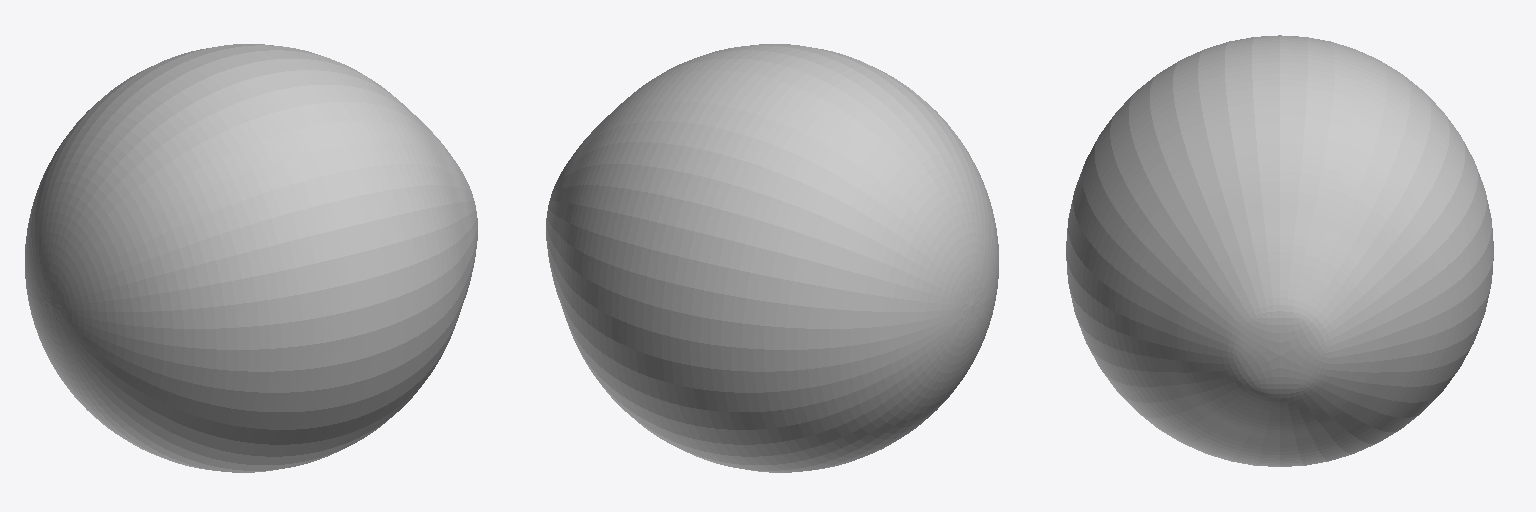
The model's file is eye_easy.obj.
3 views of the same model, side by side, from view 1: azimuth 30°, elevation 25°; view 2: azimuth 150°, elevation 25°; view 3: azimuth 270°, elevation 25° (orthographic).
Visible parts, largest first — view 1: mmGroup0; view 2: mmGroup0; view 3: mmGroup0.
Boxes of the visible parts, x1,y1,x2,y2 form: mmGroup0: [25, 44, 477, 472]; mmGroup0: [546, 44, 998, 472]; mmGroup0: [1066, 35, 1493, 466].
Size of the model in its own units: 0.0347 by 0.0315 by 0.0315.